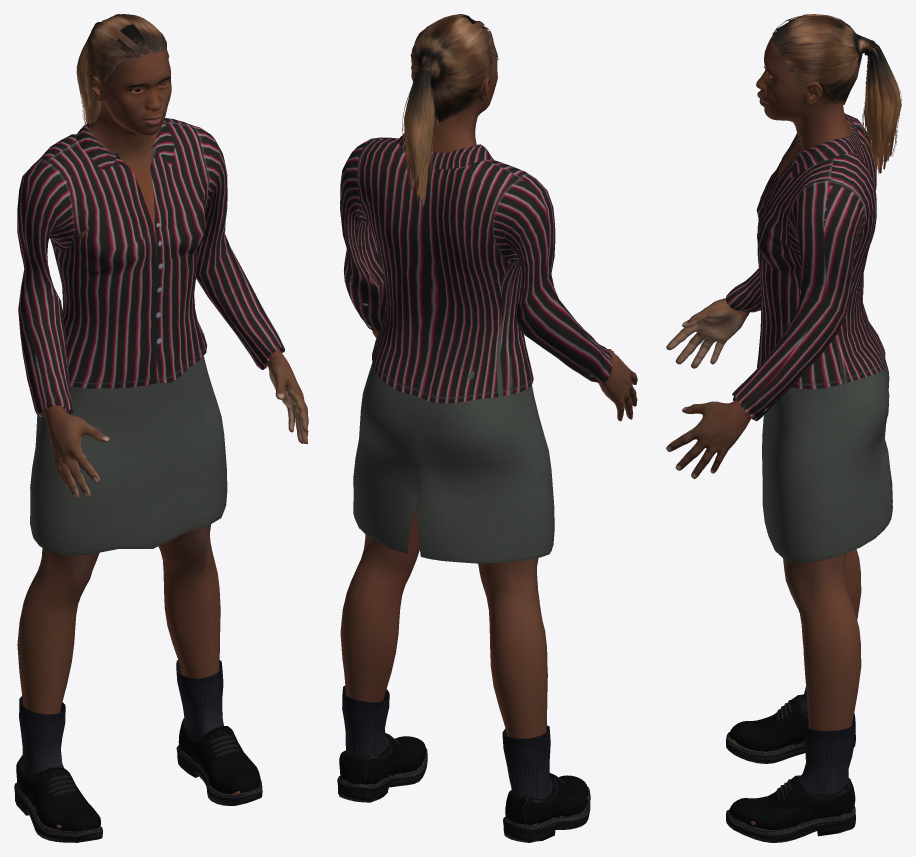
The model's file is teachmi.glb.
The picture shows the model from 3 angles, left to right: view 1: azimuth 30°, elevation 25°; view 2: azimuth 150°, elevation 25°; view 3: azimuth 270°, elevation 25°; orthographic projection. The views are drawn at different scales.
Parts seen in each view (by area): view 1: teachmi; view 2: teachmi; view 3: teachmi.
Boxes of the visible parts, x1,y1,x2,y2 form: teachmi: [14, 14, 308, 842]; teachmi: [337, 14, 637, 842]; teachmi: [666, 14, 901, 842].
Bounding box in the file's own units: 0.5559 × 1.7 × 0.469.
8 materials, 8 textured.
